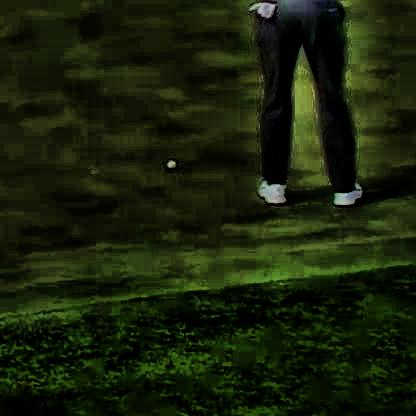golfball: (164, 154, 174, 165)
